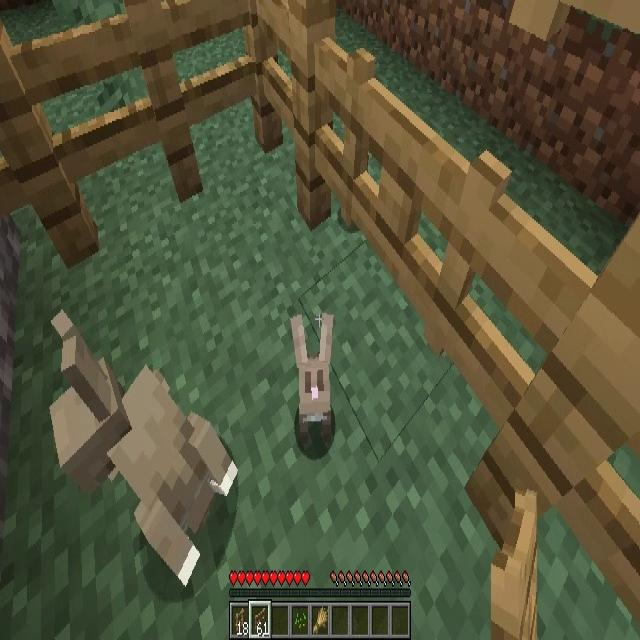rabbit: (49, 310, 238, 587), (292, 315, 333, 447)
